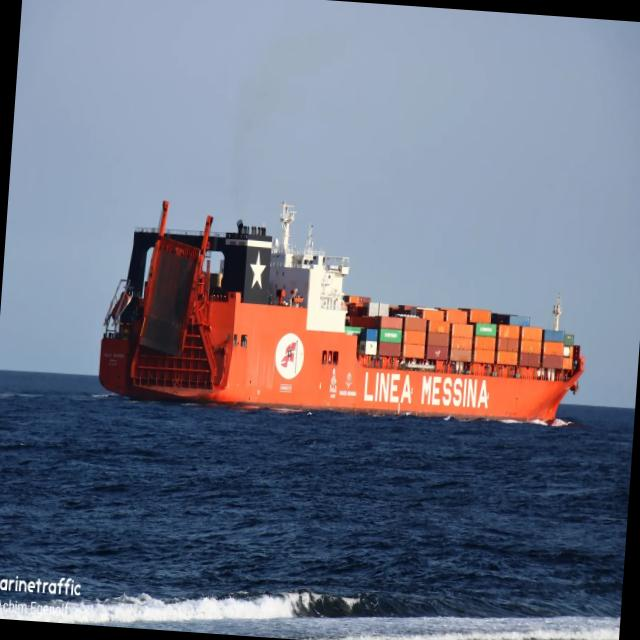Cargo: (98, 197, 584, 424)
